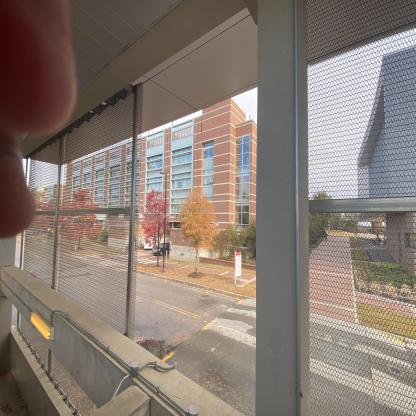EB-1: (64, 142, 252, 251)
